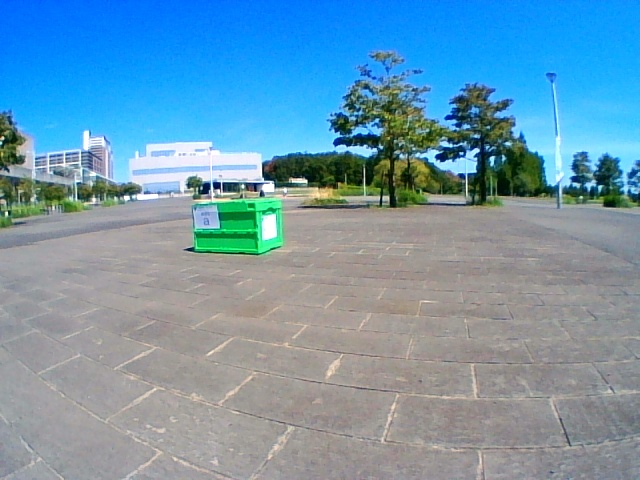green_box: (191, 199, 282, 254)
tag_a: (196, 206, 217, 229)
